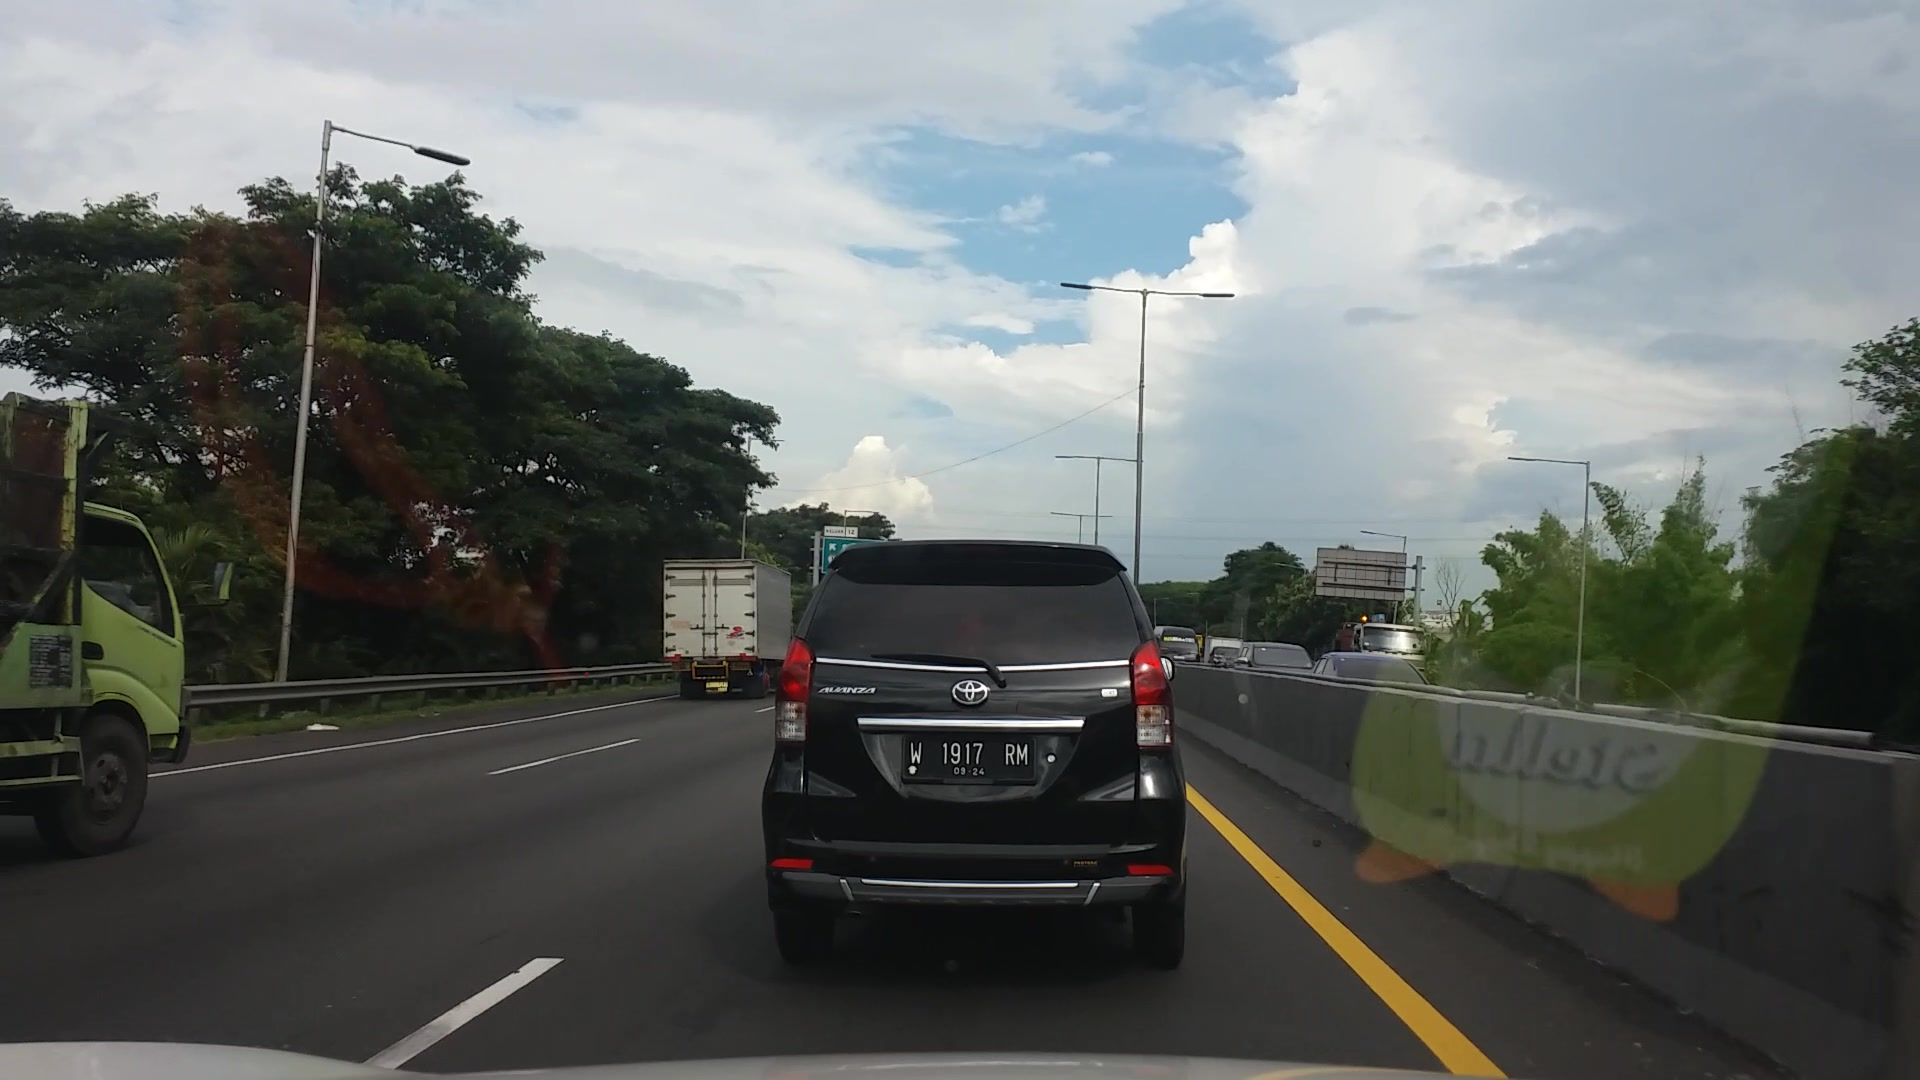plate_positive: (901, 735, 1036, 786)
